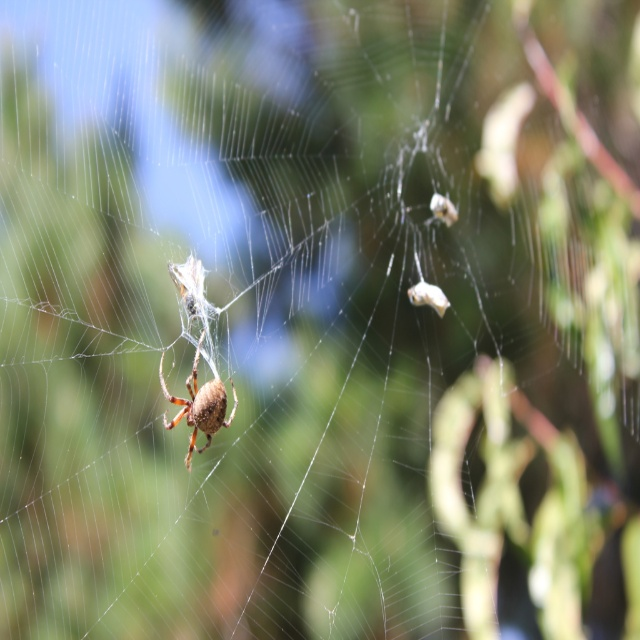Spider: (159, 328, 238, 472)
